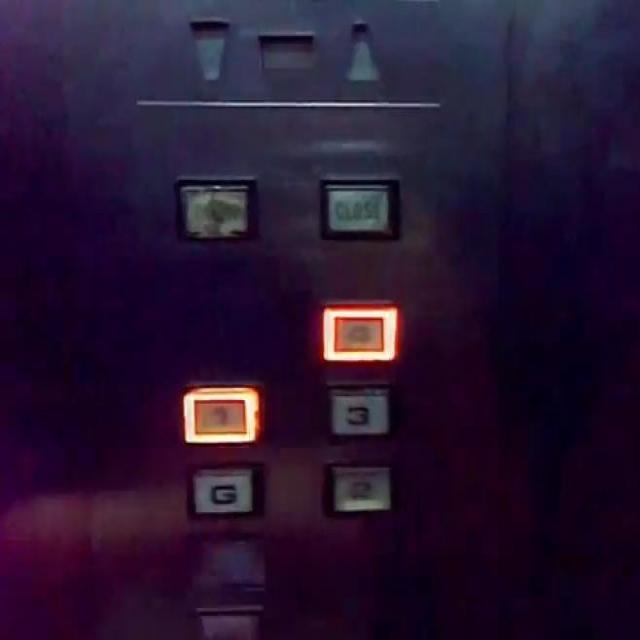1: (178, 379, 266, 448)
2: (319, 455, 399, 520)
3: (320, 379, 401, 444)
G: (180, 456, 268, 521)
blur: (170, 169, 263, 248), (317, 295, 403, 364)
text_close door: (313, 168, 403, 244)
